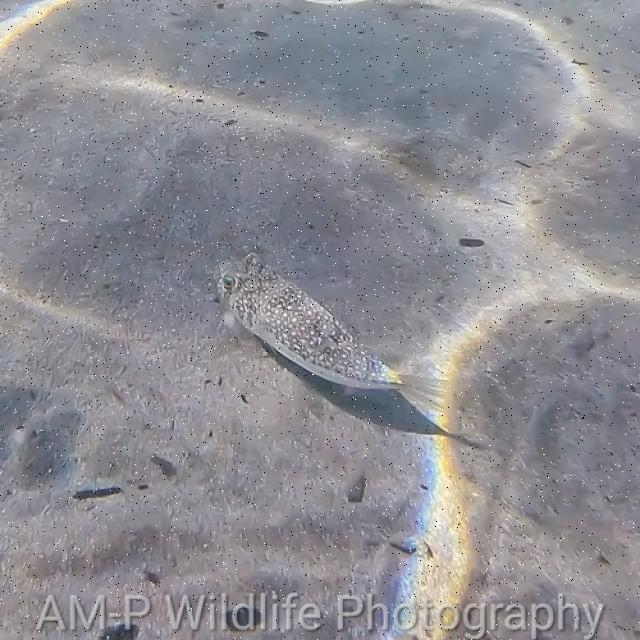Balik: (213, 253, 446, 412)
